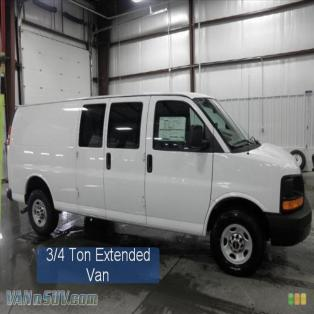Auto: (8, 93, 313, 277)
